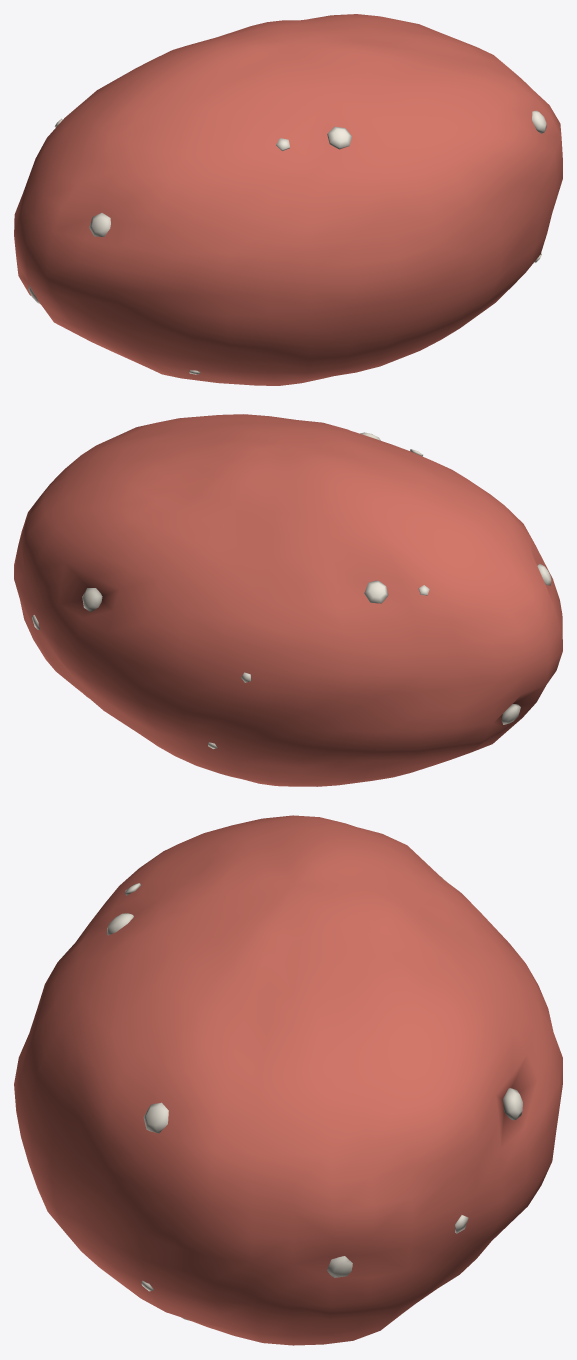
The model's file is food_potato.glb.
3 views of the same model, one above another, from view 1: azimuth 30°, elevation 25°; view 2: azimuth 150°, elevation 25°; view 3: azimuth 270°, elevation 25° (orthographic). The views are drawn at different scales.
Parts seen in each view (by area): view 1: PART; view 2: PART; view 3: PART.
Boxes of the visible parts, x1=… form: PART: x1=14, y1=14, x2=562, y2=385; PART: x1=14, y1=414, x2=562, y2=786; PART: x1=14, y1=815, x2=562, y2=1345.
Bounding box in the file's own units: 0.0961 × 0.0567 × 0.0694.
